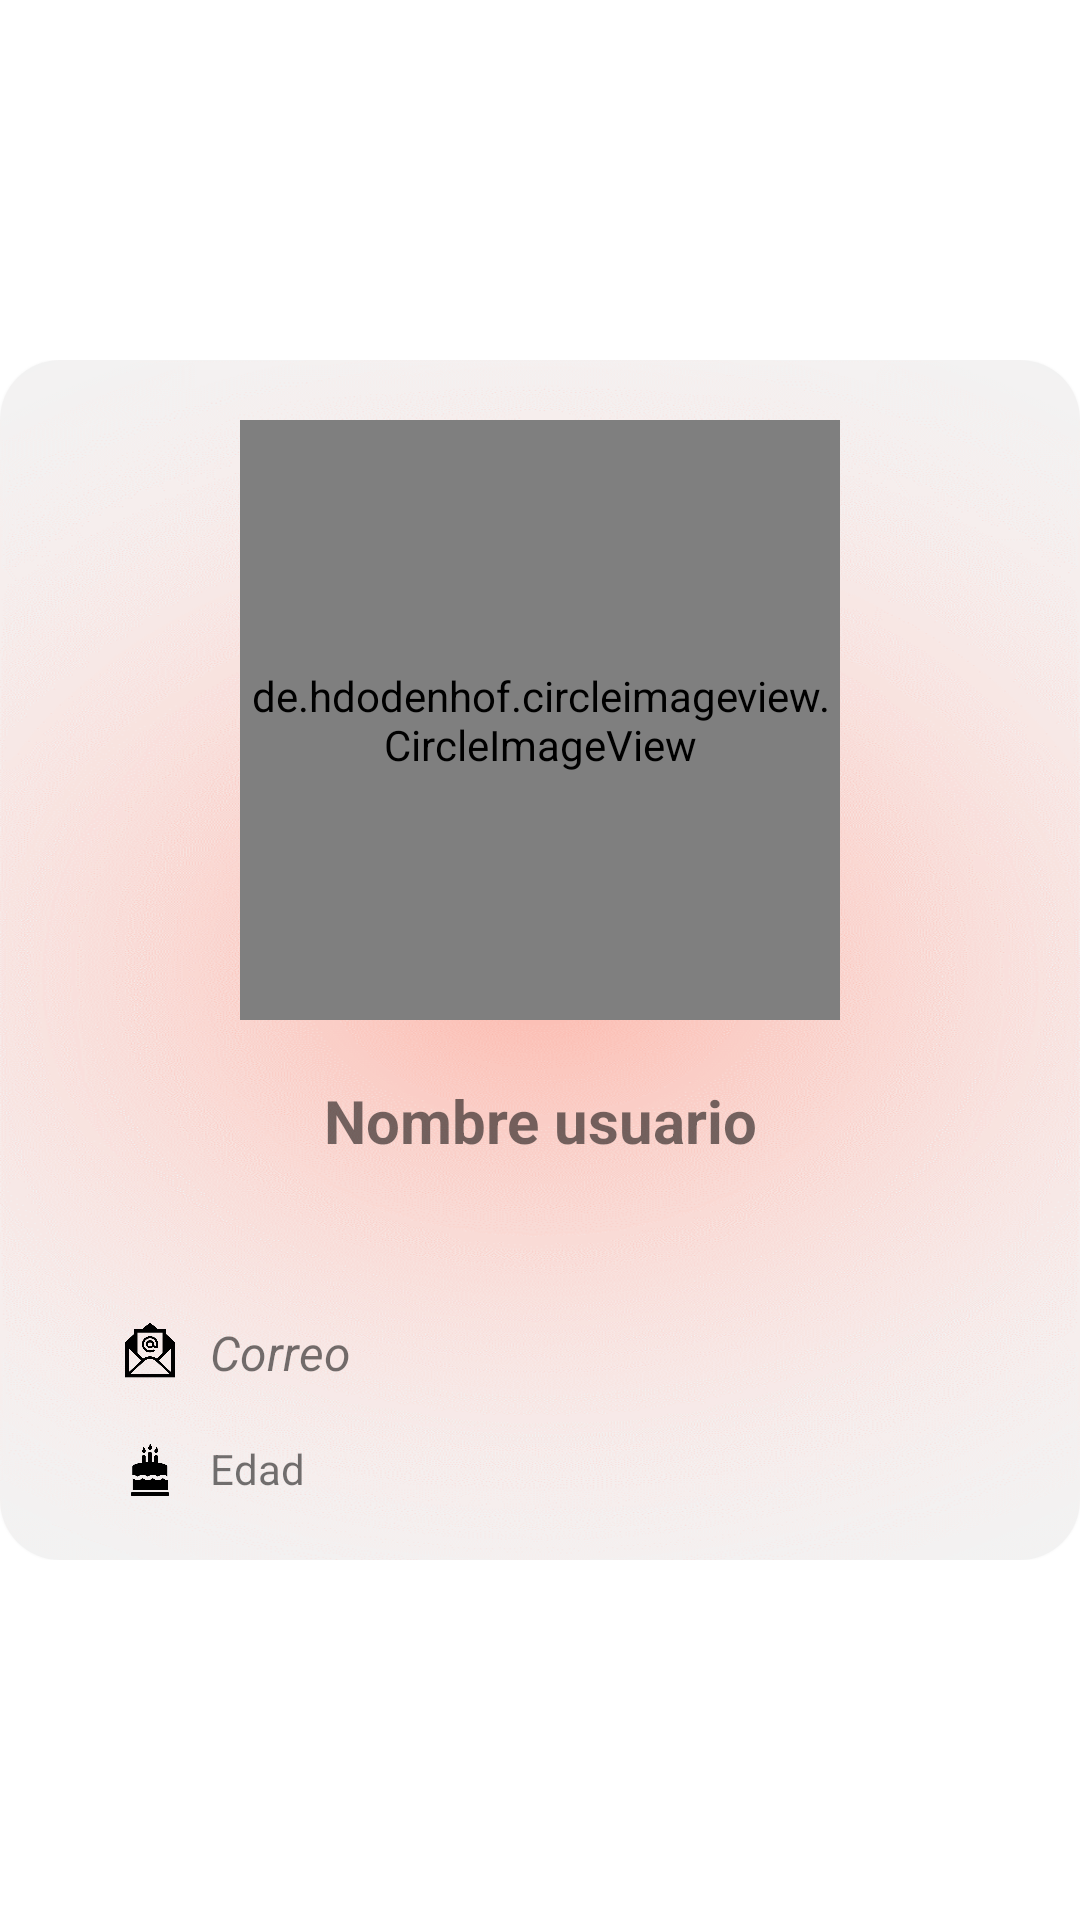

Point at icon controls on the screen. Image size 1080x1920, points as (x=x, y=y).
cumple: (x=150, y=1470)
